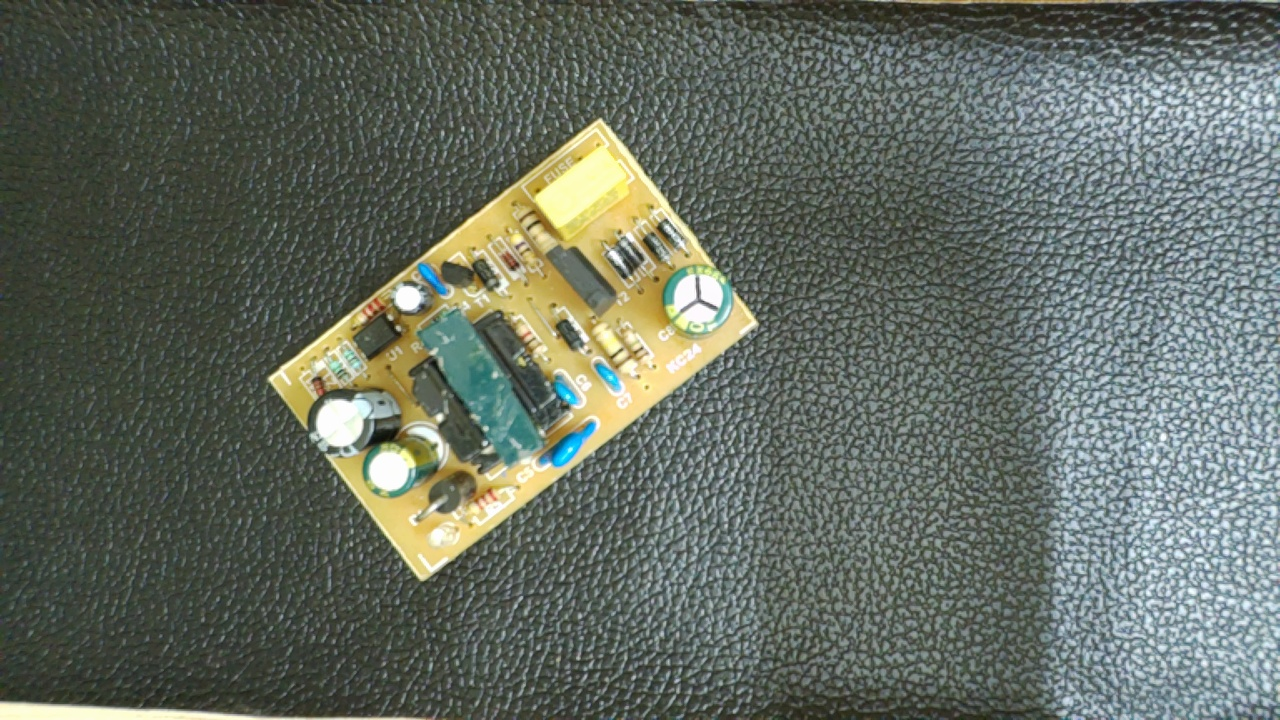hv_capacitor: (662, 263, 737, 338)
mov: (521, 419, 600, 471)
optocoupler: (344, 312, 411, 360)
